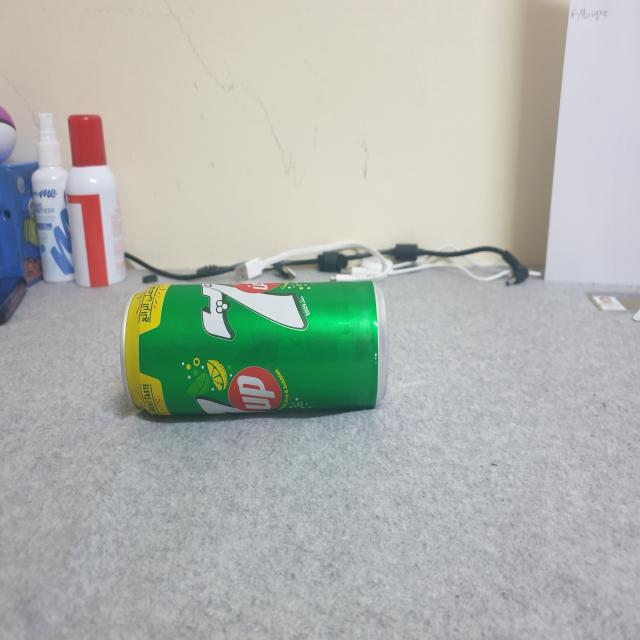non-organic waste: (109, 271, 401, 427)
